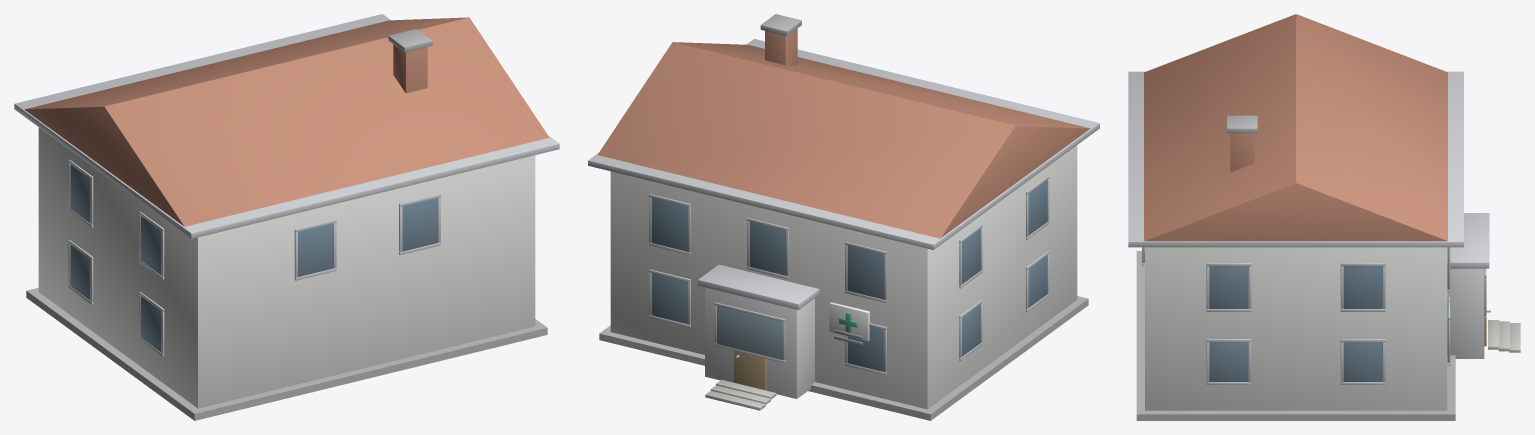
Rendered from th49_arztpraxis.glb.
The picture shows the model from 3 angles, left to right: view 1: azimuth 30°, elevation 25°; view 2: azimuth 150°, elevation 25°; view 3: azimuth 270°, elevation 25°; orthographic projection. The views are drawn at different scales.
Parts seen in each view (by area): view 1: Cube.001, PxDach, Cube.002, Cube, Cube.068, Cube.073, Cube.094, Cube.028, Cube.038, Cube.033, Cube.043, Cube.095; view 2: PxDach, Cube.001, Cube.002, Cube.078, Cube, Cube.079, Cube.080, Cube.013, Cube.003, Cube.008, Cube.023, Cube.018 (+9 smaller); view 3: PxDach, Cube.001, Cube.002, Cube, Cube.078, Cube.079, Cube.048, Cube.058, Cube.053, Cube.063, Cube.094, Cube.095.
Part boxes in pixels (bbox=[...]): Cube.001: bbox=[38, 127, 535, 408]; PxDach: bbox=[24, 17, 549, 226]; Cube.002: bbox=[14, 14, 559, 238]; Cube: bbox=[26, 287, 547, 420]; Cube.068: bbox=[298, 223, 333, 276]; Cube.073: bbox=[402, 198, 437, 251]; Cube.094: bbox=[393, 44, 427, 93]; Cube.028: bbox=[141, 216, 161, 275]; Cube.038: bbox=[70, 164, 90, 223]; Cube.033: bbox=[141, 296, 161, 352]; Cube.043: bbox=[70, 244, 90, 300]; Cube.095: bbox=[388, 29, 432, 52]; PxDach: bbox=[597, 42, 1090, 238]; Cube.001: bbox=[610, 145, 1077, 409]; Cube.002: bbox=[588, 39, 1099, 249]; Cube.078: bbox=[705, 287, 814, 398]; Cube: bbox=[599, 296, 1088, 420]; Cube.079: bbox=[698, 264, 819, 309]; Cube.080: bbox=[717, 306, 782, 359]; Cube.013: bbox=[651, 198, 687, 251]; Cube.003: bbox=[847, 245, 883, 299]; Cube.008: bbox=[749, 221, 785, 275]; Cube.023: bbox=[651, 273, 687, 324]; Cube.018: bbox=[847, 326, 883, 371]; PxDach: bbox=[1144, 14, 1447, 241]; Cube.001: bbox=[1145, 247, 1447, 410]; Cube.002: bbox=[1128, 71, 1463, 247]; Cube: bbox=[1136, 251, 1455, 420]; Cube.078: bbox=[1447, 268, 1484, 358]; Cube.079: bbox=[1447, 213, 1489, 268]; Cube.048: bbox=[1209, 266, 1248, 308]; Cube.058: bbox=[1343, 266, 1382, 308]; Cube.053: bbox=[1209, 342, 1248, 381]; Cube.063: bbox=[1343, 342, 1382, 381]; Cube.094: bbox=[1230, 133, 1254, 172]; Cube.095: bbox=[1227, 115, 1257, 133].
Bounding box in the file's own units: 12 × 8.58 × 11.69.
